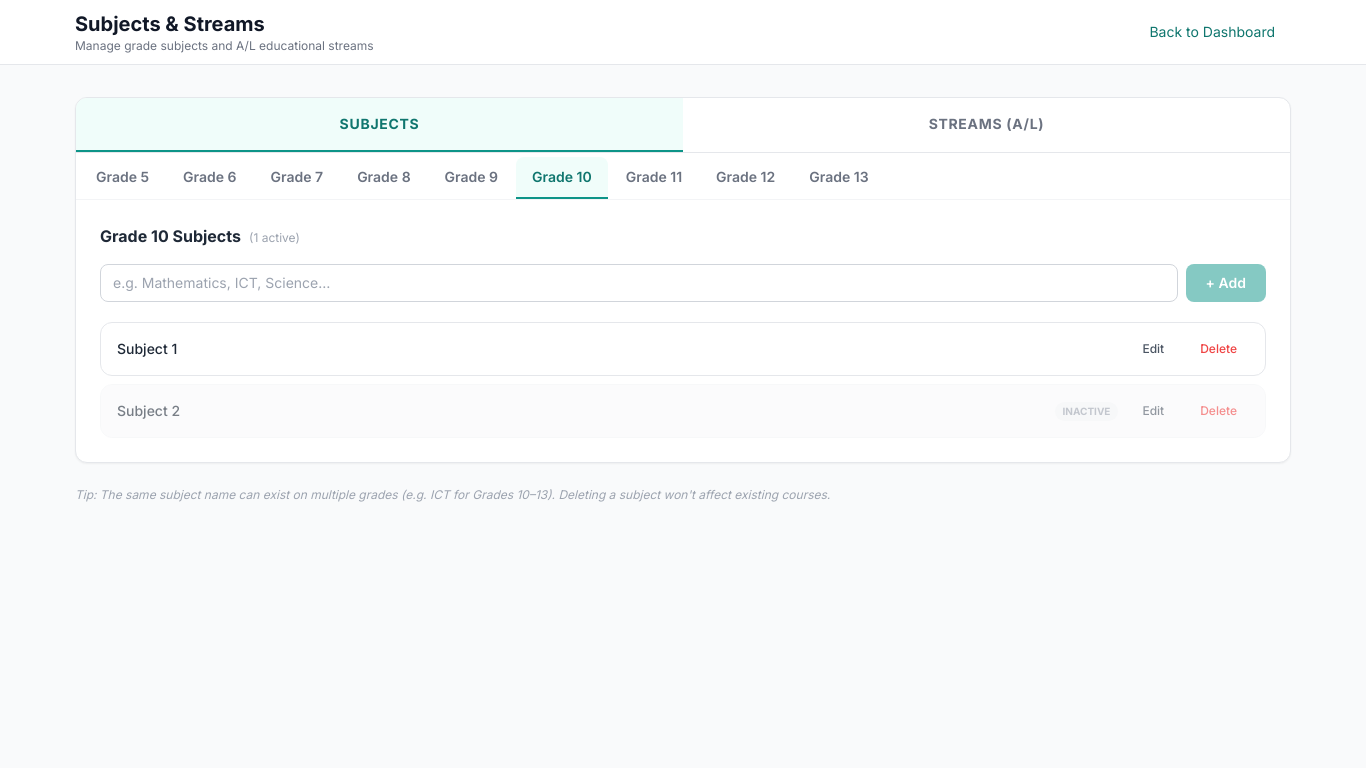
Test case: Subjects & streams › subjects tab › shows a failed add
Expected: the text "Subject 1" is shown, 117,340 -> 177,357
Type "ICT" into the field with placeholder "e.g. Mathematics, ICT, Science…" at (639, 283), box 100,264 -> 1178,302
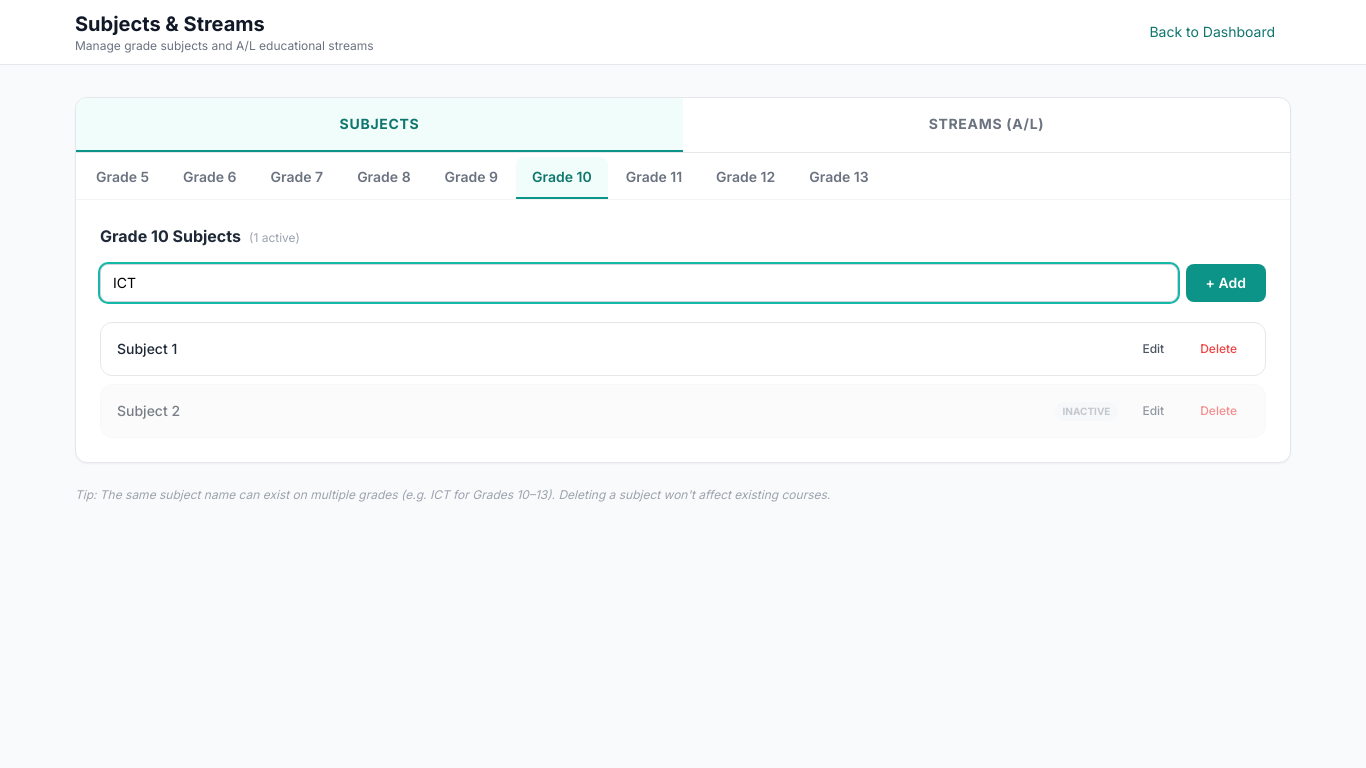
Click the button "+ Add" at (1226, 283), box 1186,264 -> 1266,302
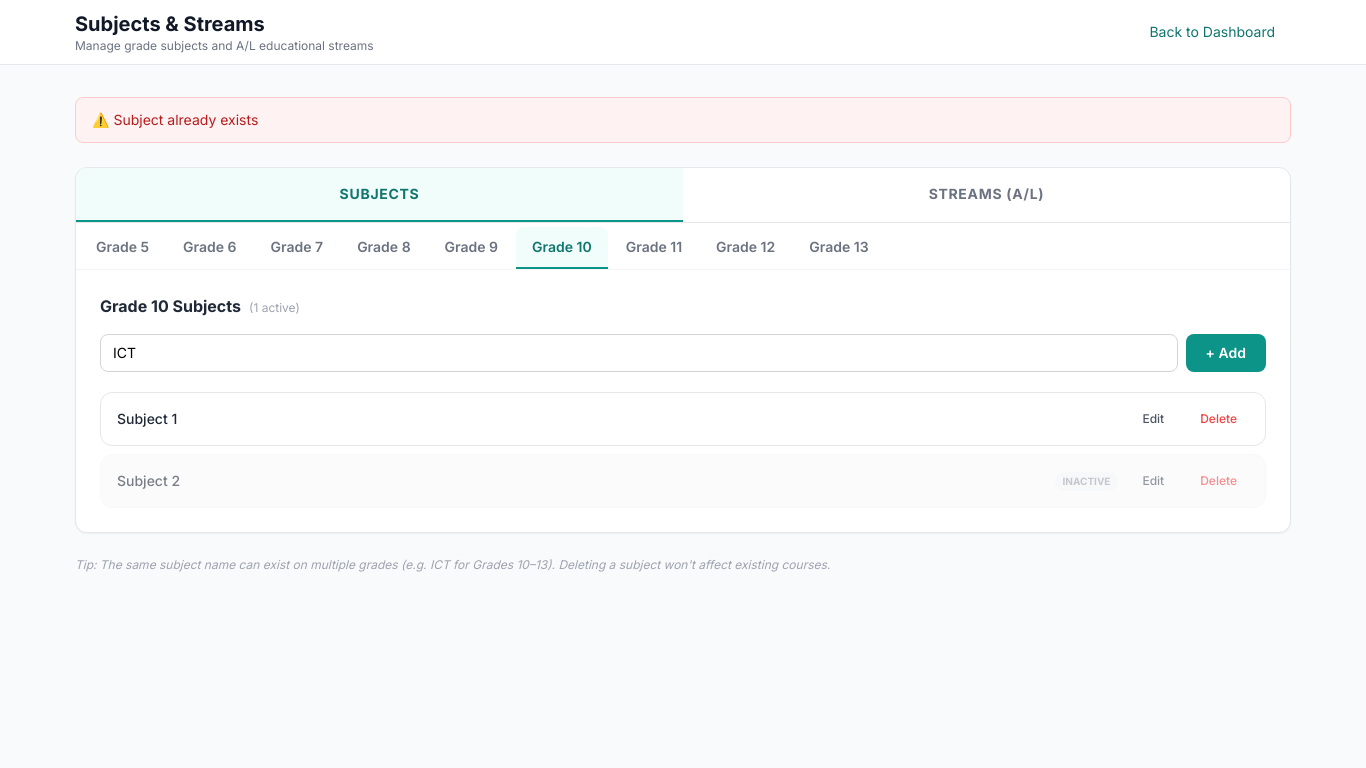
Expected: the text "⚠️ Subject already exists" is shown, 75,97 -> 1291,143
